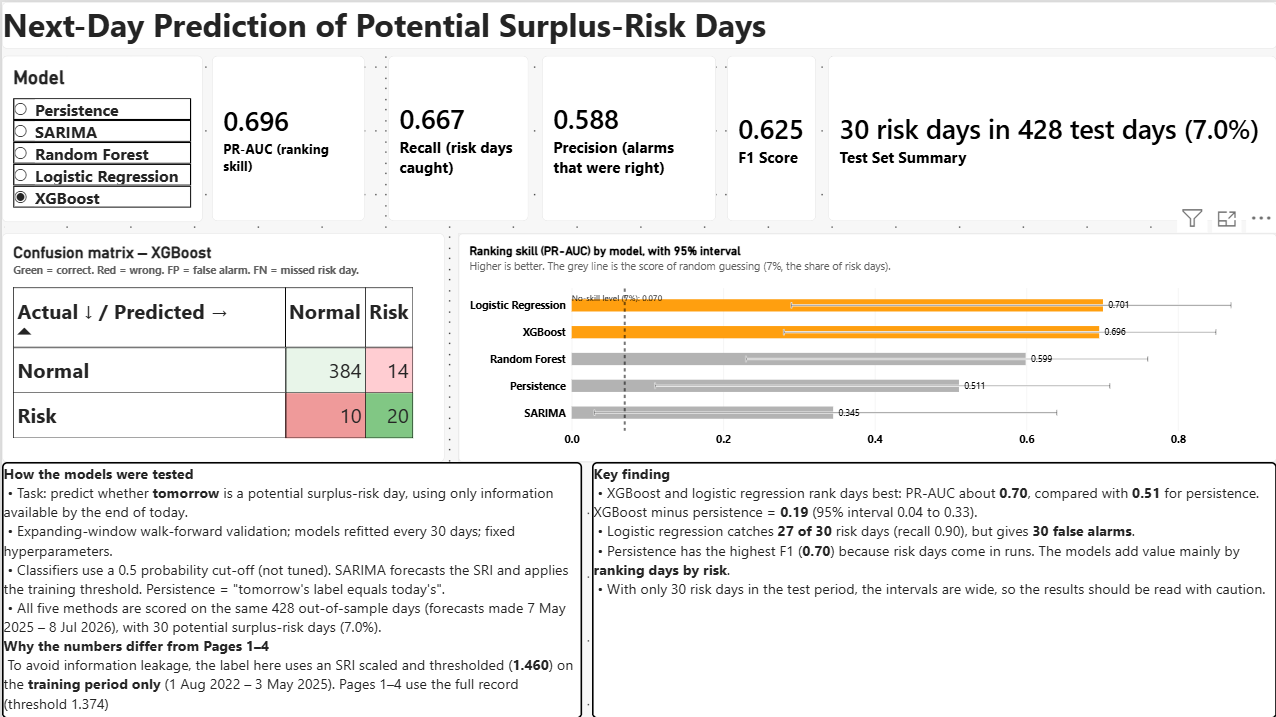

The dashboard page shown, as its layout file describes it:
{"tool":"powerbi","page":{"name":"Next-Day Prediction","canvas":[1920,1080],"ordinal":4},"visuals":[{"type":"listSlicer","fields":{"Values":["Models.Model"]},"box":[0,81.5,302.5,250],"z":0},{"type":"cardVisual","fields":{"Data":["model_metrics.PR-AUC"]},"box":[317,81.5,230,250],"z":1000},{"type":"cardVisual","fields":{"Data":["model_metrics.Model Recall"]},"box":[581.4,81.5,211.9,250],"z":2000},{"type":"cardVisual","fields":{"Data":["model_metrics.Model Precision"]},"box":[813.3,81.5,262.6,250],"z":3000},{"type":"cardVisual","fields":{"Data":["model_metrics.F1 Score"]},"box":[1092.2,81.5,134,250],"z":4000},{"type":"cardVisual","fields":{"Data":["model_predictions_long.Test Set Summary"]},"box":[1244.4,81.5,675.6,250],"z":5000},{"type":"textbox","box":[0,0,1920,70.6],"z":6000},{"type":"pivotTable","fields":{"Columns":["confusion_matrix_long.predicted"],"Rows":["confusion_matrix_long.actual"],"Values":["confusion_matrix_long.Confusion Count"]},"box":[0,348.2,666.4,344.5],"z":7000},{"type":"clusteredBarChart","title":"Ranking skill (PR-AUC) by model, with 95% interval","fields":{"Category":["Model Comparison.Model Name"],"Y":["Sum(Model Comparison.PRAUC Value)"]},"box":[687.1,348.2,1232.9,344.5],"z":8000},{"type":"textbox","box":[0,692.7,873.4,387.8],"z":9000},{"type":"textbox","box":[888.5,692.7,1031.5,387.8],"z":10000}]}

Visuals, with their boxes in screenshot pixels (x1, y1, x2, y2), scaled from the page's 1920x1080 canvas onto the 1276x717 screenshot:
listSlicer - Models.Model: rect(0, 54, 201, 220)
cardVisual - model_metrics.PR-AUC: rect(211, 54, 364, 220)
cardVisual - model_metrics.Model Recall: rect(386, 54, 527, 220)
cardVisual - model_metrics.Model Precision: rect(541, 54, 715, 220)
cardVisual - model_metrics.F1 Score: rect(726, 54, 815, 220)
cardVisual - model_predictions_long.Test Set Summary: rect(827, 54, 1275, 220)
textbox: rect(0, 0, 1275, 47)
pivotTable - confusion_matrix_long.predicted x confusion_matrix_long.actual: rect(0, 231, 443, 460)
"Ranking skill (PR-AUC) by model, with 95% interval" clusteredBarChart: rect(457, 231, 1275, 460)
textbox: rect(0, 460, 580, 716)
textbox: rect(590, 460, 1275, 716)
